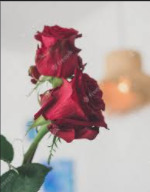RedRose: (25, 20, 95, 78), (53, 69, 108, 142)
